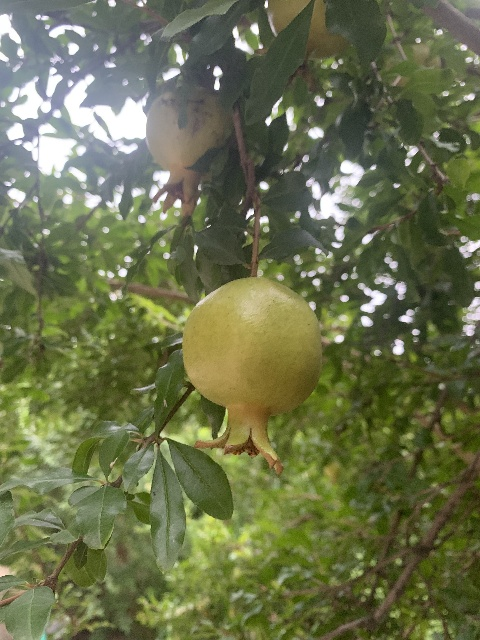mid-growth: (180, 276, 323, 474), (145, 86, 234, 218), (254, 0, 350, 93)
